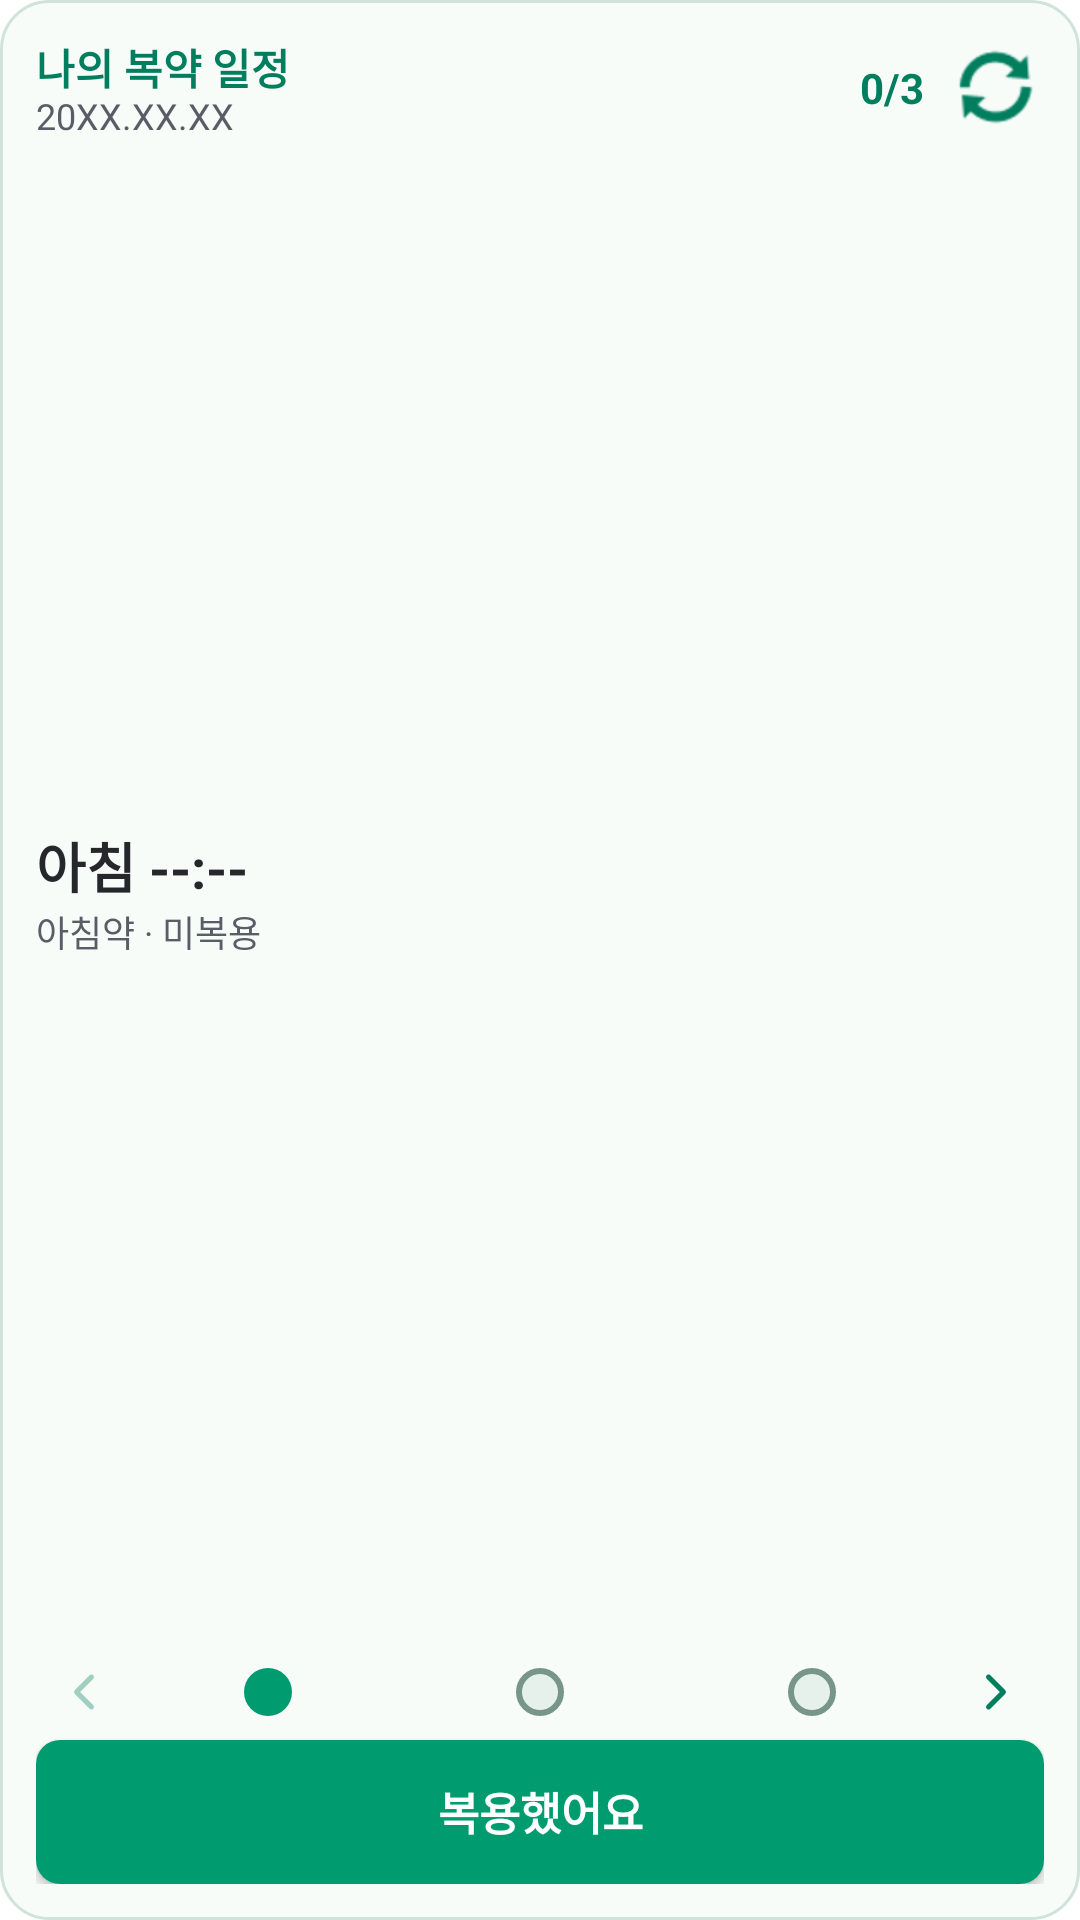

Icon bounding boxes for this 1080px×1920px phone screenshot, format (x1, y1, x2, y2):
dose widget dot: (244, 1668, 292, 1716), (516, 1668, 564, 1716), (788, 1668, 836, 1716)
dose widget next: (986, 1674, 1006, 1710)
dose widget previous: (74, 1674, 94, 1710)
